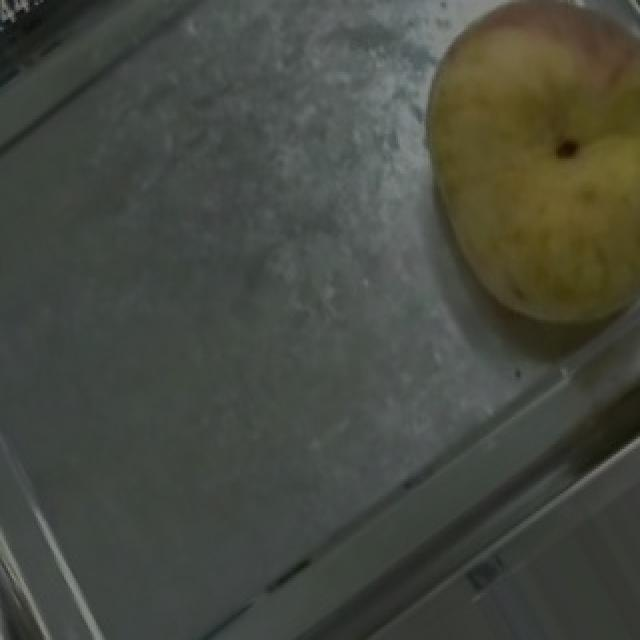Fruit: (382, 0, 640, 370)
